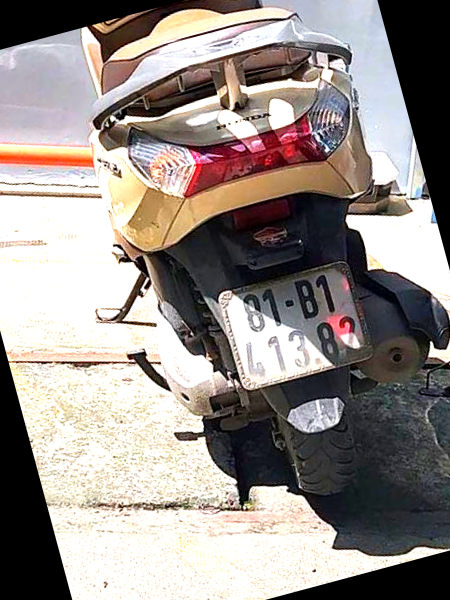number: (219, 263, 364, 386)
